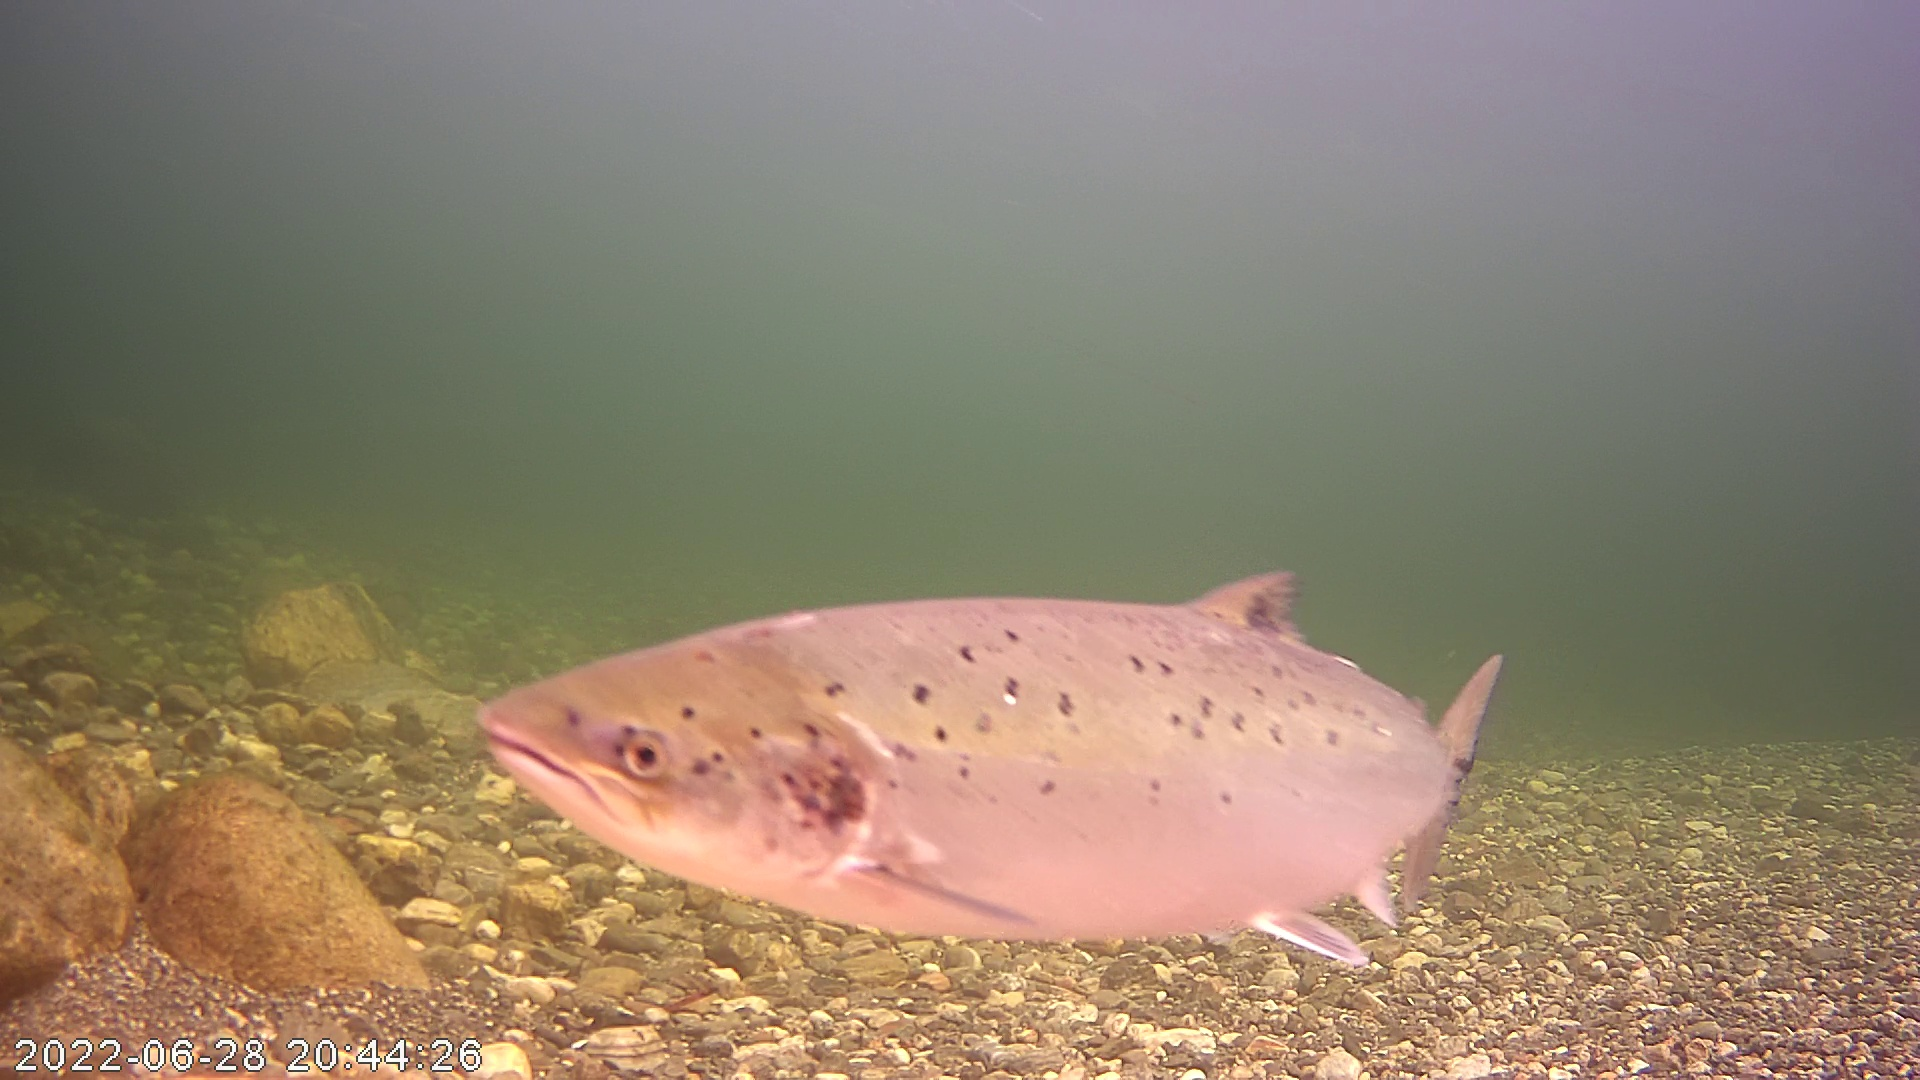salmon: (473, 527, 1513, 957)
